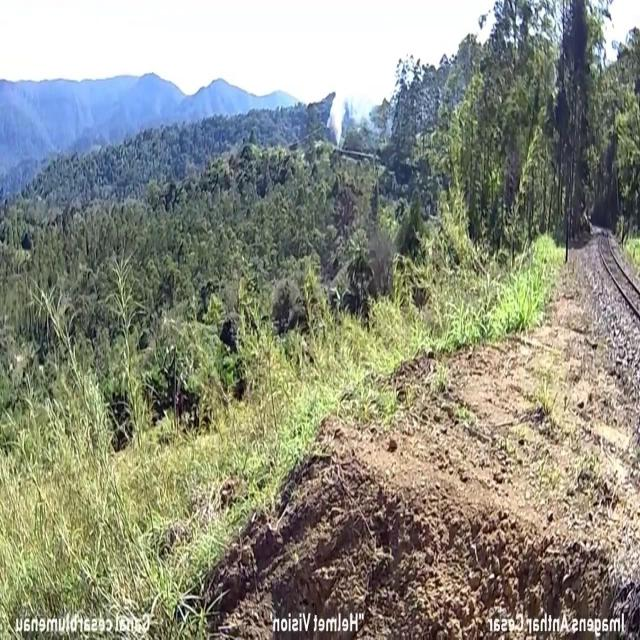Smoke: (323, 59, 365, 149)
